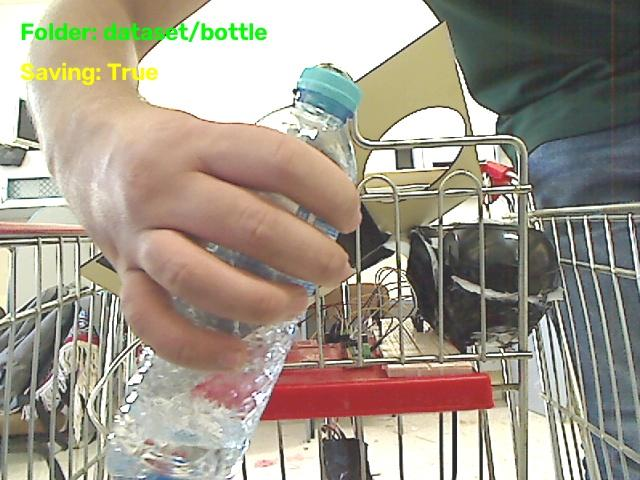Bottle: (219, 404, 220, 404)
can: (149, 173, 346, 287), (132, 233, 312, 346), (169, 121, 357, 227)
